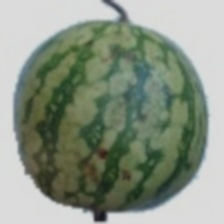watermelon: (47, 39, 214, 173)
